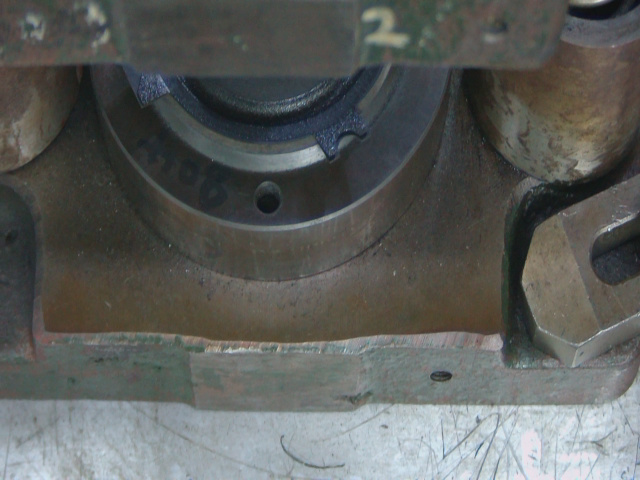HX2: (316, 107, 379, 172)
